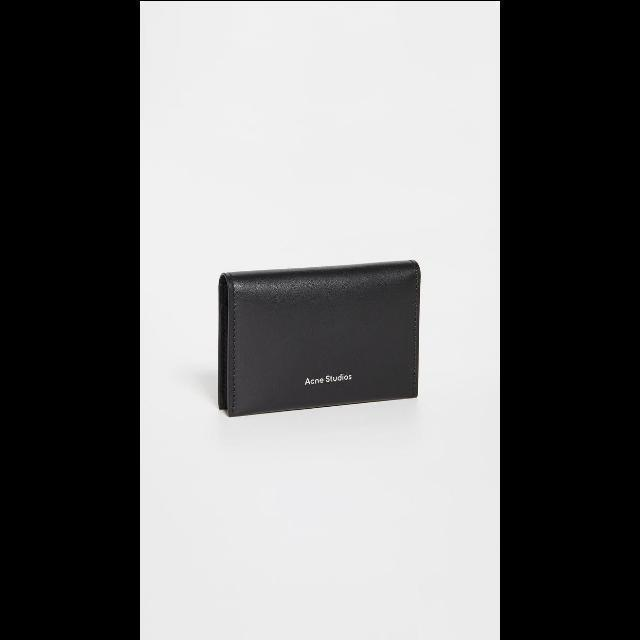wallet: (216, 258, 420, 416)
